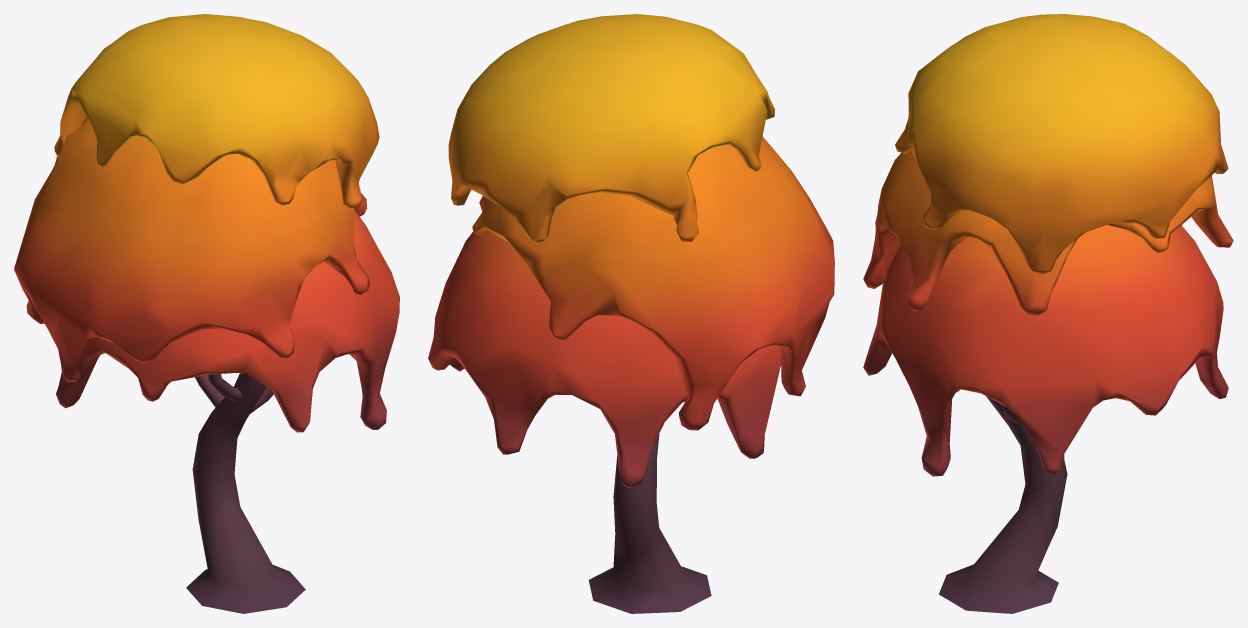
File: tree_autumn_2a.fbx
3 renders of one model, left to right at view 1: azimuth 30°, elevation 25°; view 2: azimuth 150°, elevation 25°; view 3: azimuth 270°, elevation 25°, orthographic. The views are drawn at different scales.
Visible parts, largest first — view 1: model_0.003; view 2: model_0.003; view 3: model_0.003.
Boxes of the visible parts, left/top/right/bottom form: model_0.003: left=14, top=14, right=399, bottom=613; model_0.003: left=428, top=14, right=834, bottom=613; model_0.003: left=863, top=14, right=1233, bottom=613.
Bounding box in the file's own units: 242 × 369 × 225.
